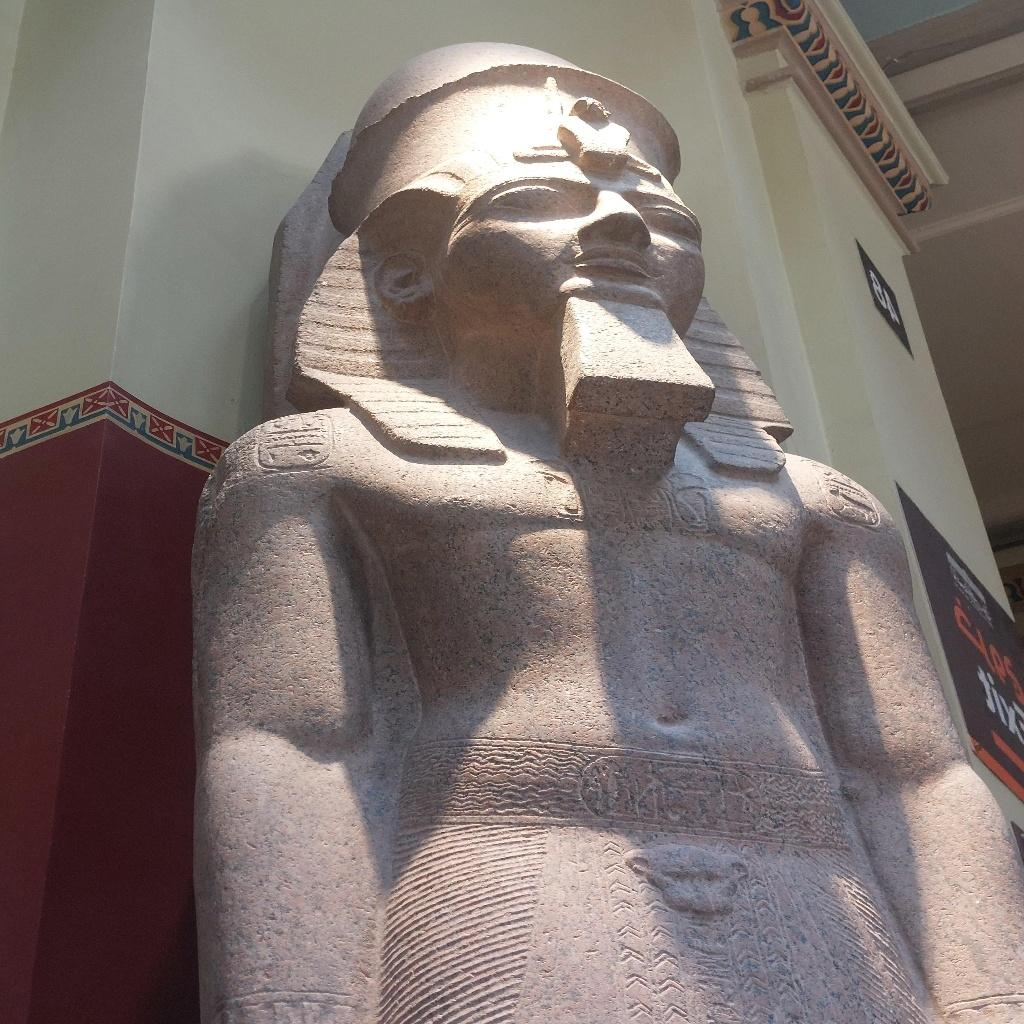Colossal Statue of Ramesses II: (184, 40, 1022, 1022)
